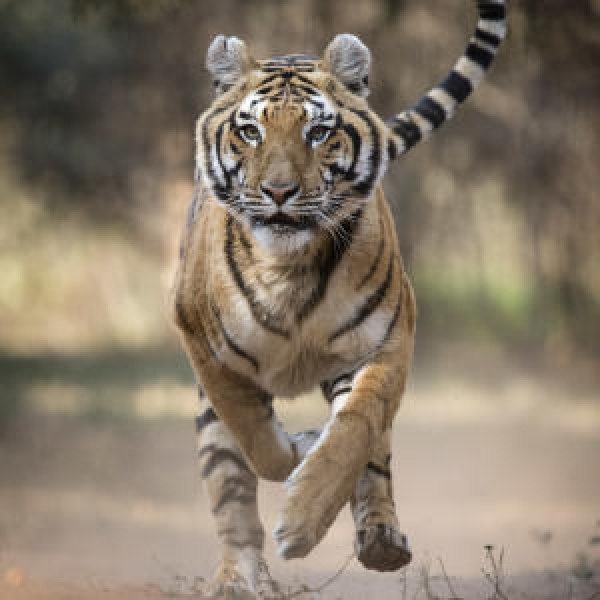Tiger: (164, 2, 514, 600)
